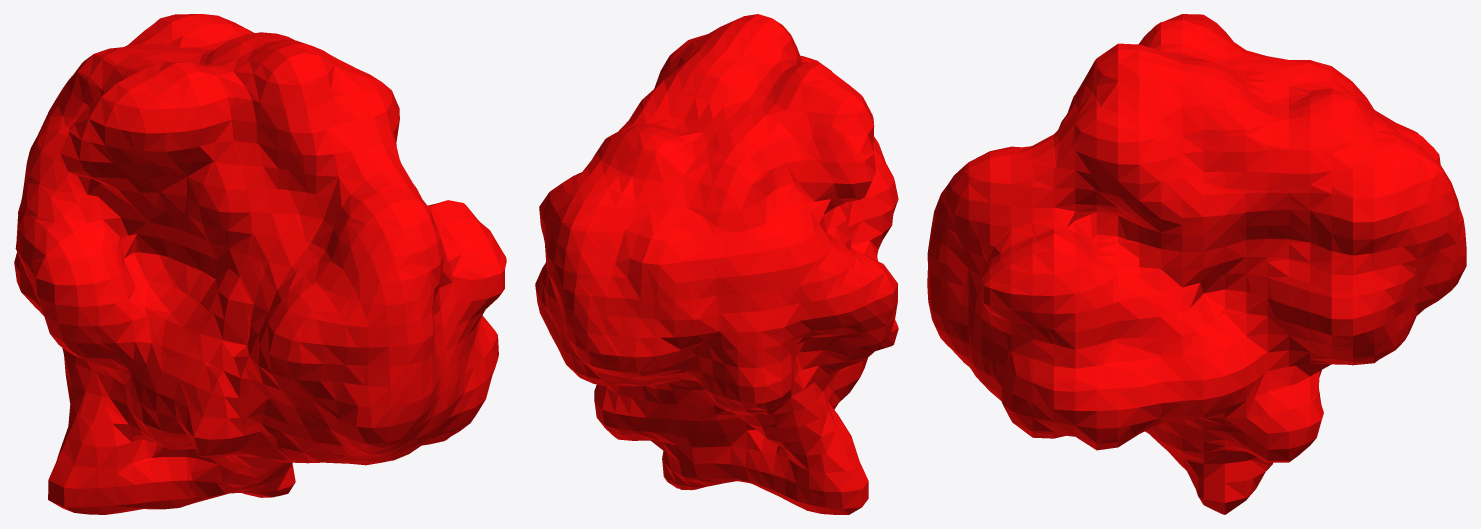
The model's file is glcD_coarse.dae.
3 views of the same model, side by side, from view 1: azimuth 30°, elevation 25°; view 2: azimuth 150°, elevation 25°; view 3: azimuth 270°, elevation 25° (orthographic). The views are drawn at different scales.
Parts seen in each view (by area): view 1: glcD; view 2: glcD; view 3: glcD.
Part boxes in pixels (left/top/right/bottom): glcD: left=14, top=14, right=506, bottom=514; glcD: left=535, top=14, right=898, bottom=514; glcD: left=927, top=14, right=1466, bottom=514.
Size of the model in its own units: 55.77 by 70.37 by 76.23.
